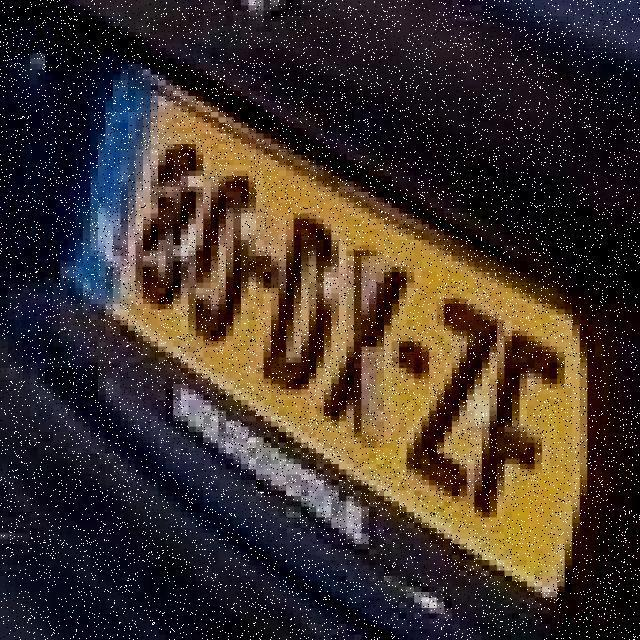LicensePlate: (28, 35, 613, 590)
